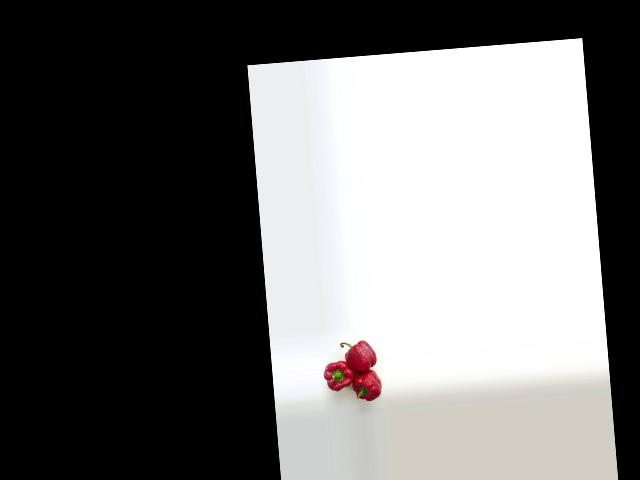bell_pepper: (337, 332, 378, 372)
